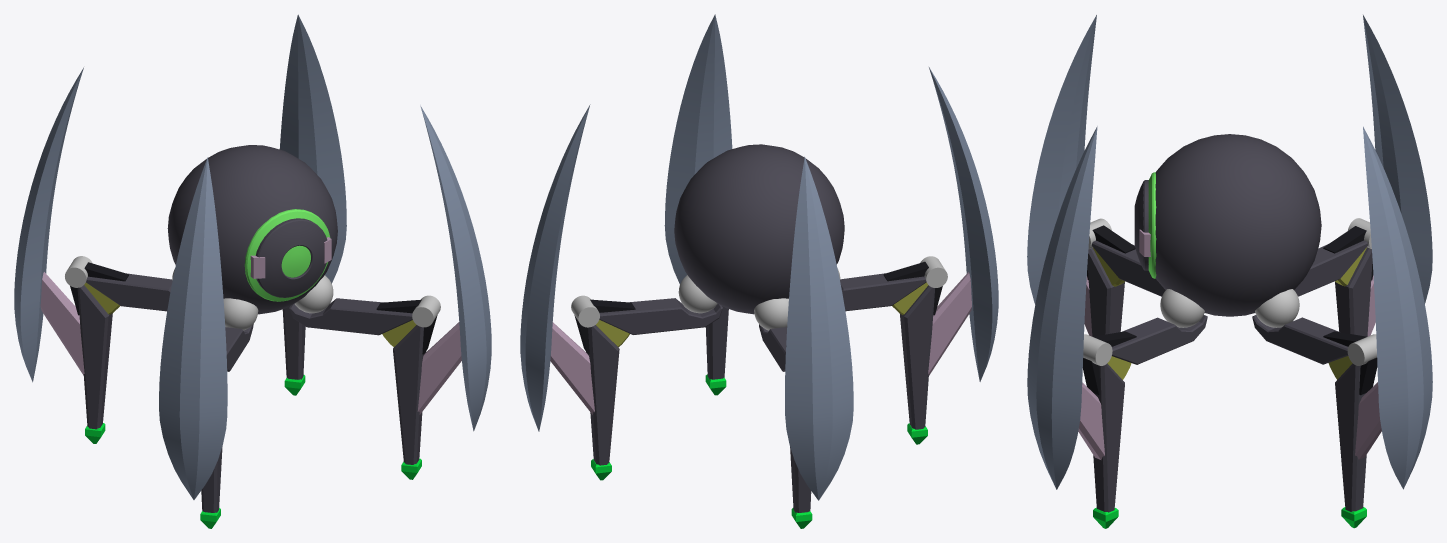
Rendered from arachnaclops_UV 1.fbx.
3 renders of one model, left to right at view 1: azimuth 30°, elevation 25°; view 2: azimuth 150°, elevation 25°; view 3: azimuth 270°, elevation 25°, orthographic. The views are drawn at different scales.
Parts seen in each view (by area): view 1: Armspike.002, body.003, Armspike.001, Armspike.003, Armspike, Sphere.002, Cube.044, Cube.076, Cube.075, Cube.061, Cube.045, Cube.077 (+6 smaller); view 2: body.003, Armspike, Armspike.003, Armspike.001, Armspike.002, Cube.069, Cube.062, Cube.043, Cube.068, Cube.070, Cube.063, Roundcube.003 (+5 smaller); view 3: body.003, Armspike.003, Armspike.001, Armspike.002, Armspike, Cube.076, Cube.062, Cube.043, Cube.075, Roundcube.003, Cube.044, Cube.069 (+11 smaller).
Part boxes in pixels (x1,y1,x2,y2): Armspike.002: (159,157,227,499); body.003: (167,145,337,314); Armspike.001: (279,14,346,283); Armspike.003: (420,105,491,431); Armspike: (14,67,83,382); Sphere.002: (244,209,330,301); Cube.044: (77,285,112,429); Cube.076: (393,325,426,464); Cube.075: (289,298,412,335); Cube.061: (86,273,172,311); Cube.045: (40,272,84,375); Cube.077: (417,322,461,414); body.003: (674,144,844,314); Armspike: (785,156,853,500); Armspike.003: (664,14,732,283); Armspike.001: (520,104,590,431); Armspike.002: (929,67,998,381); Cube.069: (899,285,935,429); Cube.062: (586,325,619,465); Cube.043: (599,298,722,334); Cube.068: (840,273,926,311); Cube.070: (928,272,971,375); Cube.063: (550,322,594,414); Roundcube.003: (678,268,840,330); body.003: (1155,134,1321,316); Armspike.003: (1027,126,1097,489); Armspike.001: (1363,126,1432,489); Armspike.002: (1027,15,1096,304); Armspike: (1363,15,1432,303); Cube.076: (1093,363,1124,512); Cube.062: (1335,363,1366,511); Cube.043: (1252,315,1348,364); Cube.075: (1112,315,1207,364); Roundcube.003: (1160,289,1299,327); Cube.044: (1335,247,1372,336); Cube.069: (1087,248,1124,336).
Size of the model in its own units: 443 by 488 by 443.
